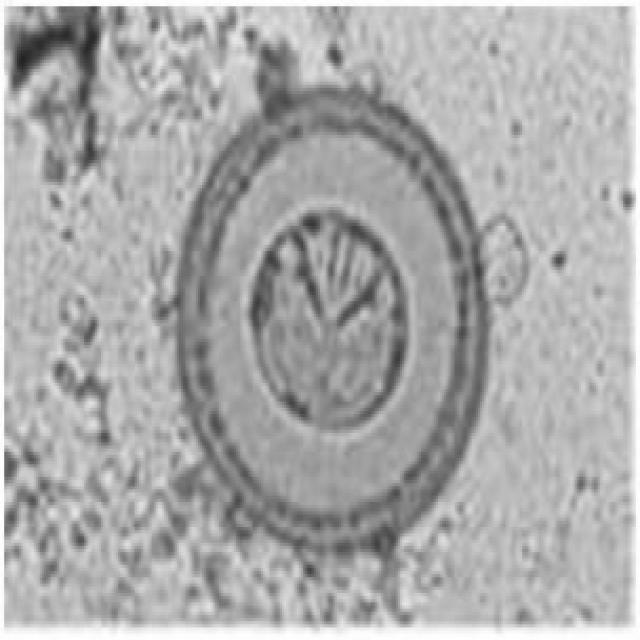Hymenolepis: (169, 76, 500, 556)
